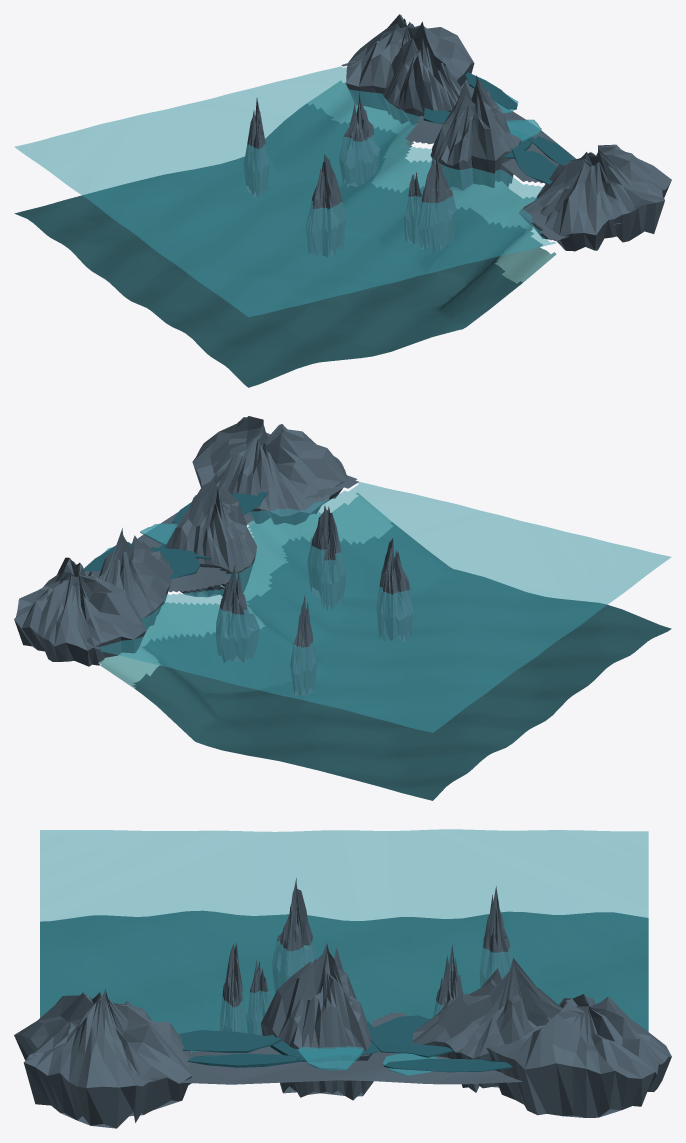
The model's file is water_tile_13.glb.
3 views of the same model, one above another, from view 1: azimuth 30°, elevation 25°; view 2: azimuth 150°, elevation 25°; view 3: azimuth 270°, elevation 25° (orthographic). The views are drawn at different scales.
Parts seen in each view (by area): view 1: glacial water surface 13, submerged mineral riverbed.013, angular fractured shoreline ledge.123, visible shallow mineral shelves.013, angular fractured shoreline ledge.121, angular fractured shoreline ledge.120, angular fractured shoreline ledge.122, underwater worn boulder.043, underwater worn boulder.042, underwater worn boulder.041, single continuous dark slate shoreline.013, underwater worn boulder.045 (+5 smaller); view 2: glacial water surface 13, submerged mineral riverbed.013, angular fractured shoreline ledge.123, angular fractured shoreline ledge.120, visible shallow mineral shelves.013, angular fractured shoreline ledge.121, angular fractured shoreline ledge.122, underwater worn boulder.041, underwater worn boulder.043, single continuous dark slate shoreline.013, underwater worn boulder.042, underwater worn boulder.045 (+2 smaller); view 3: glacial water surface 13, submerged mineral riverbed.013, angular fractured shoreline ledge.123, angular fractured shoreline ledge.120, angular fractured shoreline ledge.121, angular fractured shoreline ledge.122, single continuous dark slate shoreline.013, underwater worn boulder.043, erosion water finger above land.151, erosion water finger above land.154, underwater worn boulder.045, underwater worn boulder.042 (+7 smaller).
Part boxes in pixels (x1,y1,x2,y2): glacial water surface 13: [14, 66, 555, 317]; submerged mineral riverbed.013: [14, 103, 526, 387]; angular fractured shoreline ledge.123: [519, 144, 671, 251]; visible shallow mineral shelves.013: [307, 80, 556, 283]; angular fractured shoreline ledge.121: [430, 75, 520, 190]; angular fractured shoreline ledge.120: [345, 14, 474, 110]; angular fractured shoreline ledge.122: [382, 21, 461, 125]; underwater worn boulder.043: [305, 154, 346, 257]; underwater worn boulder.042: [417, 156, 456, 253]; underwater worn boulder.041: [339, 92, 380, 188]; single continuous dark slate shoreline.013: [341, 61, 623, 240]; underwater worn boulder.045: [243, 98, 269, 198]; glacial water surface 13: [100, 482, 671, 732]; submerged mineral riverbed.013: [132, 522, 671, 800]; angular fractured shoreline ledge.123: [192, 416, 347, 525]; angular fractured shoreline ledge.120: [14, 557, 146, 666]; visible shallow mineral shelves.013: [98, 493, 393, 688]; angular fractured shoreline ledge.121: [165, 477, 256, 597]; angular fractured shoreline ledge.122: [99, 528, 173, 629]; underwater worn boulder.041: [215, 564, 259, 662]; underwater worn boulder.043: [376, 538, 413, 641]; single continuous dark slate shoreline.013: [85, 475, 358, 649]; underwater worn boulder.042: [307, 505, 346, 601]; underwater worn boulder.045: [290, 595, 316, 695]; glacial water surface 13: [40, 829, 648, 1053]; submerged mineral riverbed.013: [40, 910, 648, 1084]; angular fractured shoreline ledge.123: [14, 988, 191, 1128]; angular fractured shoreline ledge.120: [486, 994, 671, 1117]; angular fractured shoreline ledge.121: [261, 942, 373, 1100]; angular fractured shoreline ledge.122: [412, 958, 562, 1092]; single continuous dark slate shoreline.013: [178, 1012, 522, 1084]; underwater worn boulder.043: [272, 877, 316, 992]; erosion water finger above land.151: [369, 1015, 453, 1058]; erosion water finger above land.154: [178, 1030, 281, 1052]; underwater worn boulder.045: [479, 886, 512, 987]; underwater worn boulder.042: [219, 942, 244, 1032].
Size of the model in its own units: 1.09 by 0.3527 by 1.08.
